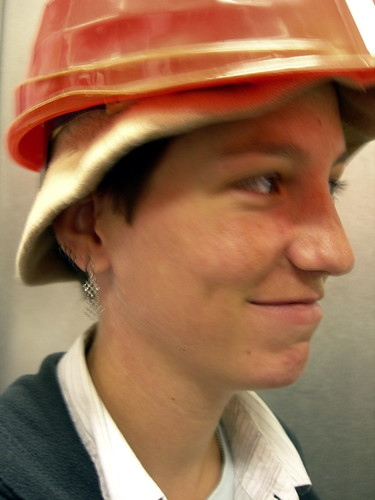person hardhat: (19, 1, 370, 500)
